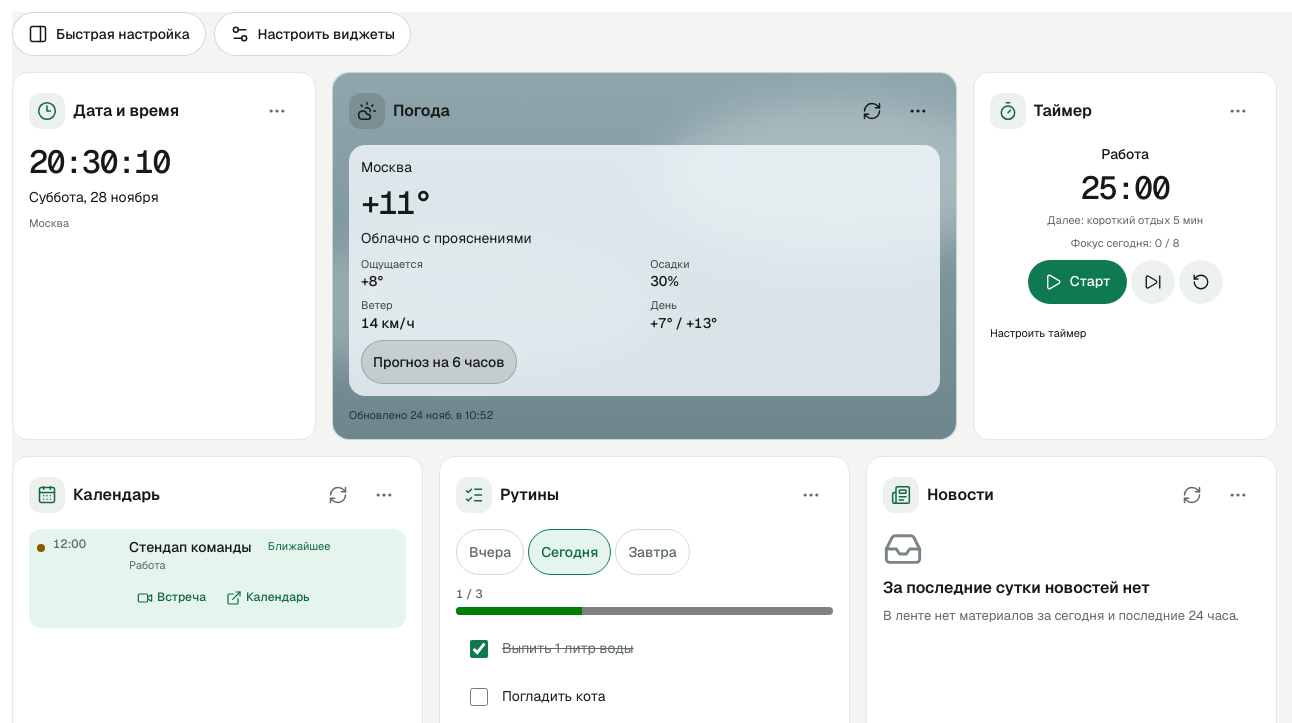
пустые новости › по кнопке обновления ещё раз запрашивает ленты
Check: the heading "За последние сутки новостей нет" is shown, box left=883, top=577, right=1150, bottom=600
What coordinates should you click on to do the following:
click the button named "Обновить виджет «Новости»"
I would click on:
 (1192, 495)
Its box is left=1170, top=473, right=1214, bottom=517.
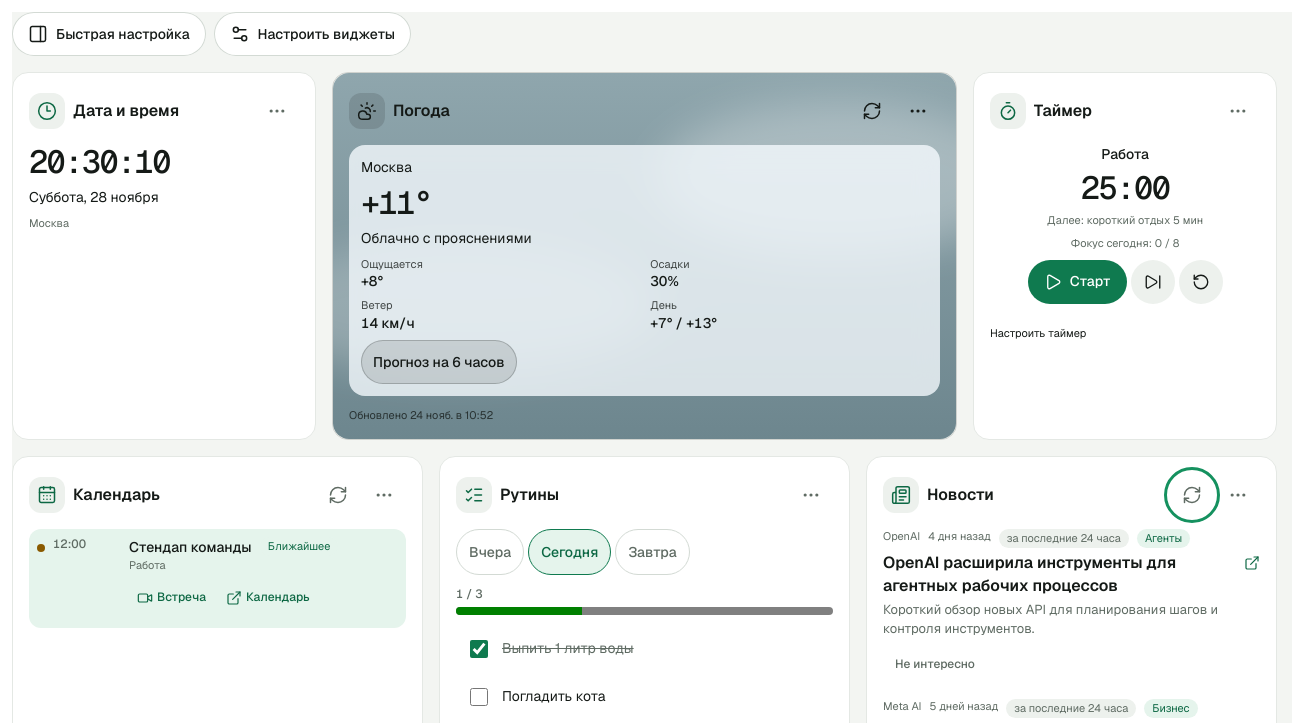
Check: the link "OpenAI расширила инструменты для агентных рабочих процессов" is shown, box left=883, top=552, right=1260, bottom=597
